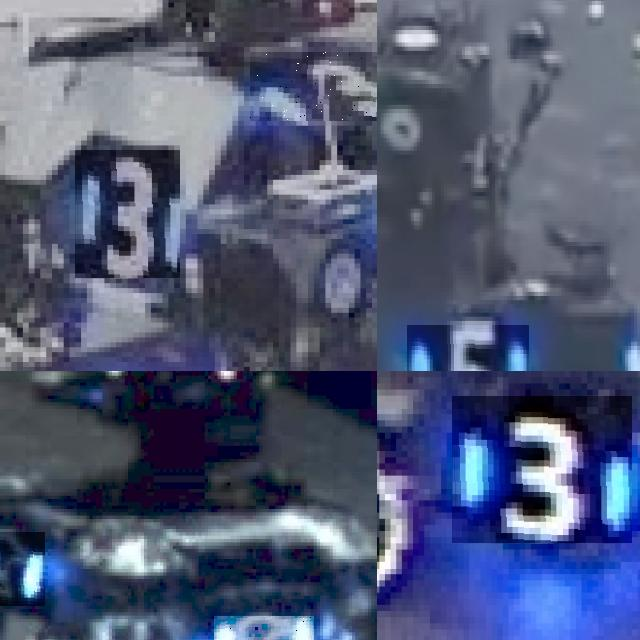B3: (452, 396, 632, 543), (75, 150, 180, 278), (250, 52, 377, 121)
B5: (407, 325, 528, 371)
Bs: (0, 532, 45, 605), (214, 615, 313, 640)
